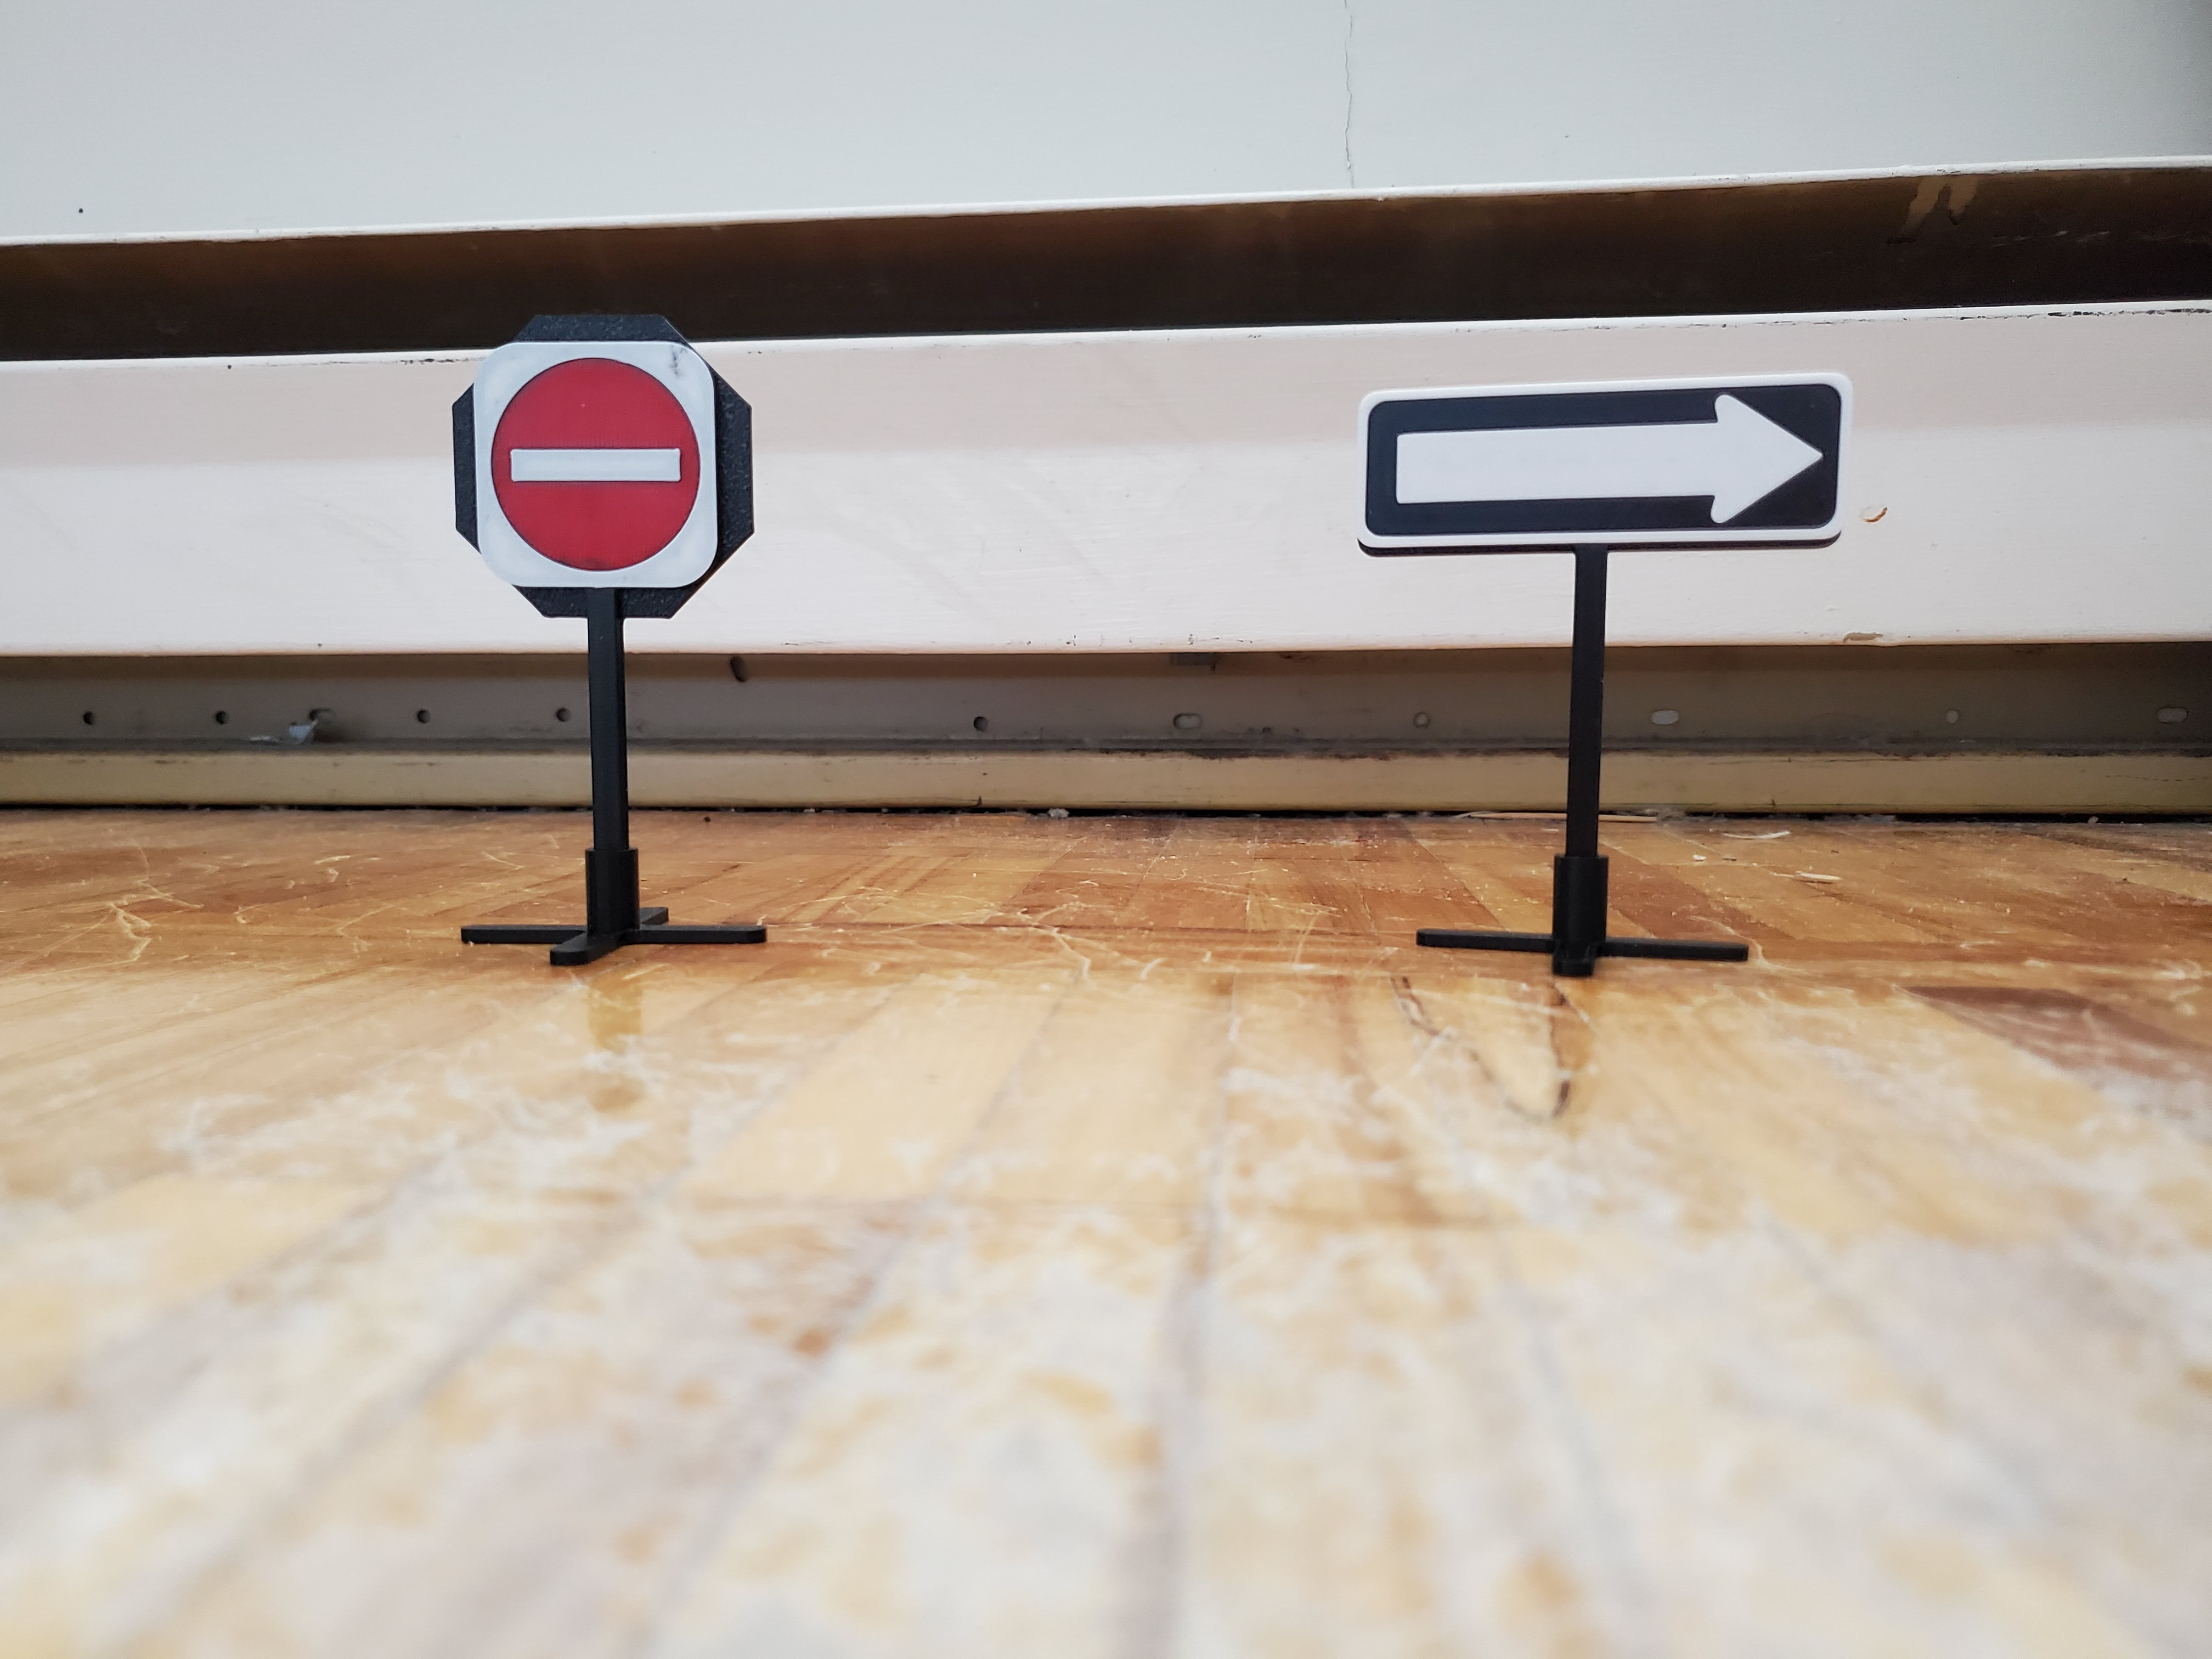sign_noentry: (319, 272, 874, 1037)
sign_oneway_right: (1298, 296, 1926, 1061)
